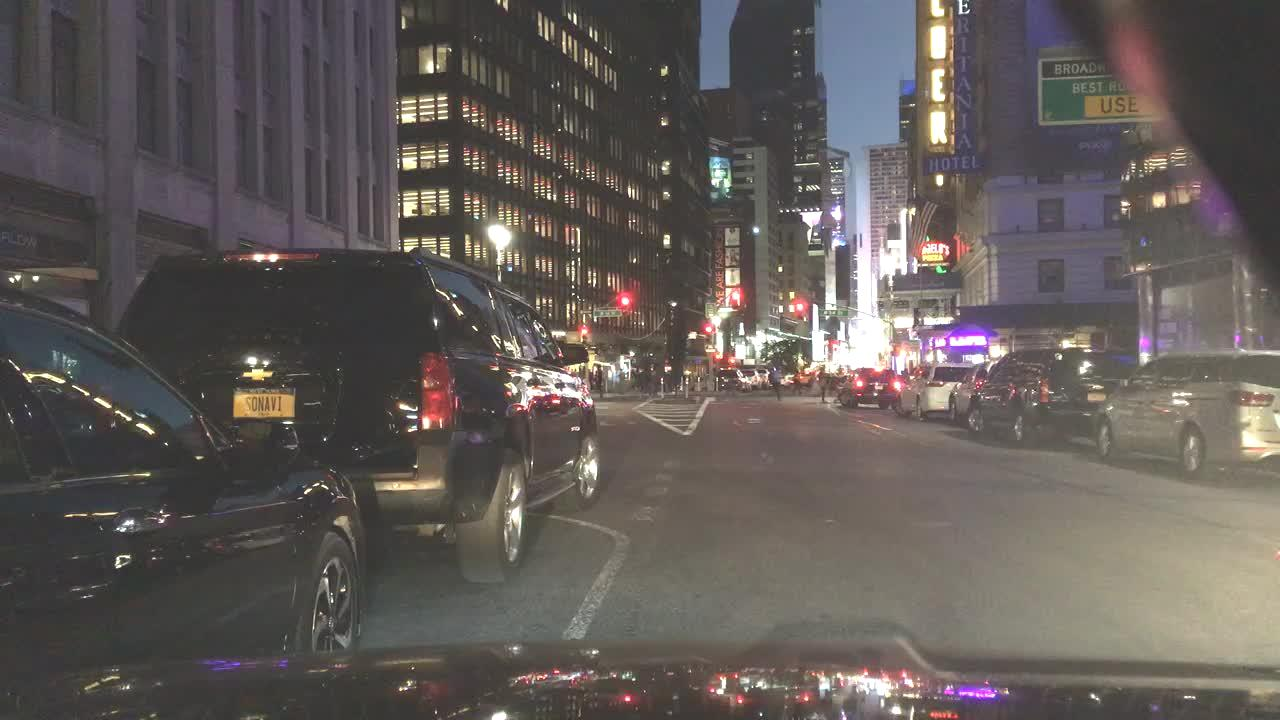chevrolet: (240, 363, 280, 390)
